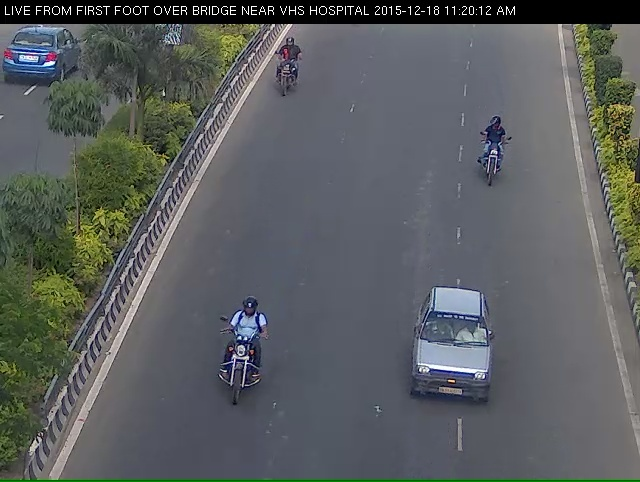Car: (409, 300, 497, 431)
Person: (204, 339, 254, 451), (264, 46, 299, 105), (481, 125, 506, 192)
